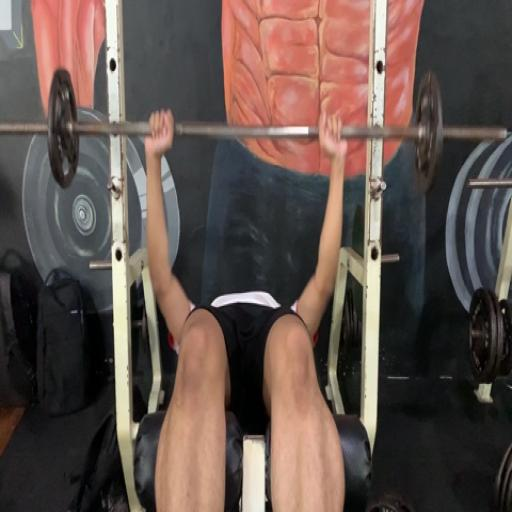exercise: (141, 104, 352, 510)
